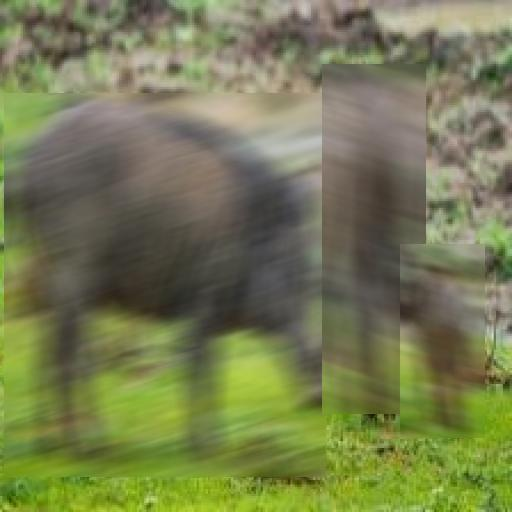Pig: (4, 94, 326, 478), (322, 64, 426, 414), (400, 244, 485, 438)
